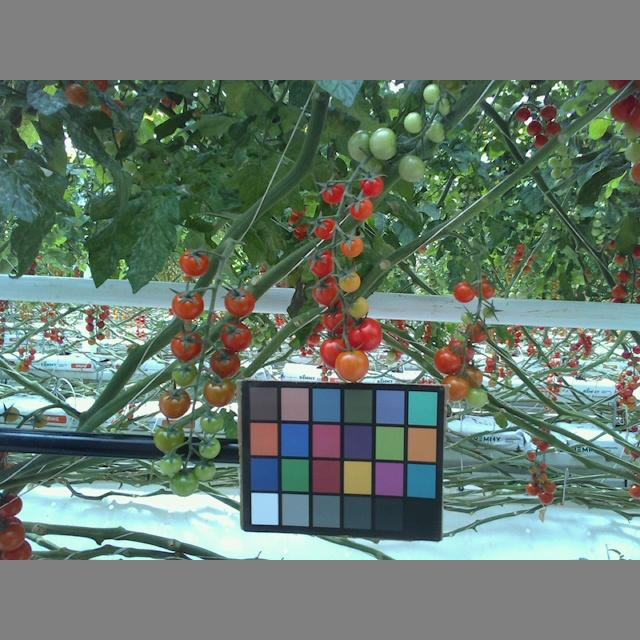green: (346, 130, 377, 164), (152, 422, 185, 452), (370, 126, 397, 159), (168, 468, 198, 496), (398, 154, 428, 182), (171, 357, 197, 386), (155, 452, 183, 478), (423, 117, 446, 145), (198, 410, 224, 434), (463, 386, 489, 409), (198, 435, 221, 459), (421, 82, 442, 105), (194, 461, 218, 480), (405, 112, 425, 133)
pink: (336, 347, 370, 383), (158, 388, 191, 417), (204, 376, 233, 408), (442, 373, 469, 402), (457, 367, 485, 389), (346, 294, 368, 317), (339, 271, 362, 292), (342, 235, 362, 258)
red: (349, 317, 383, 351), (221, 319, 251, 353), (170, 330, 201, 361), (179, 246, 211, 276), (172, 292, 204, 322), (320, 336, 350, 368), (225, 287, 255, 316), (211, 351, 240, 380), (433, 346, 463, 373), (307, 249, 335, 277), (321, 304, 349, 332), (311, 277, 339, 304), (463, 321, 489, 347), (359, 174, 385, 198), (321, 181, 345, 206), (453, 279, 476, 303), (350, 198, 373, 221), (314, 217, 335, 240)
